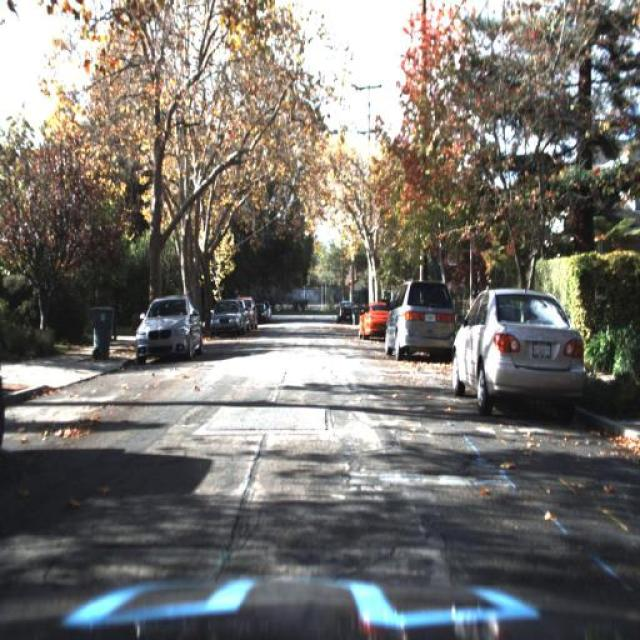car: (444, 271, 594, 429), (451, 289, 585, 412), (382, 263, 454, 367), (380, 273, 460, 358), (133, 290, 205, 360), (358, 310, 394, 350), (210, 299, 244, 335), (245, 294, 259, 340)
